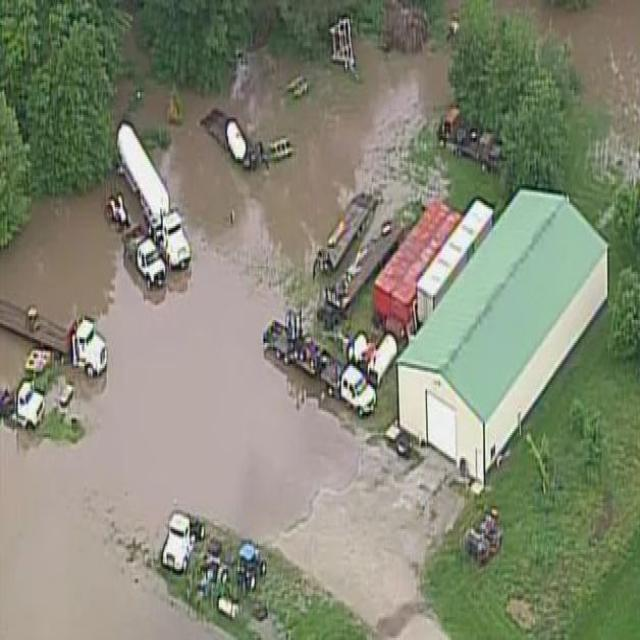flooded_areas: (0, 44, 448, 613)
